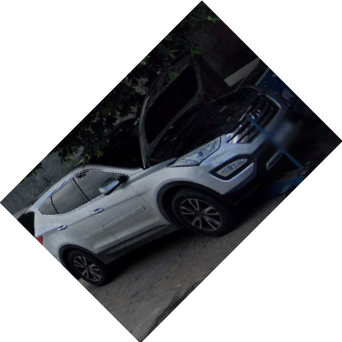car: (30, 58, 295, 287)
